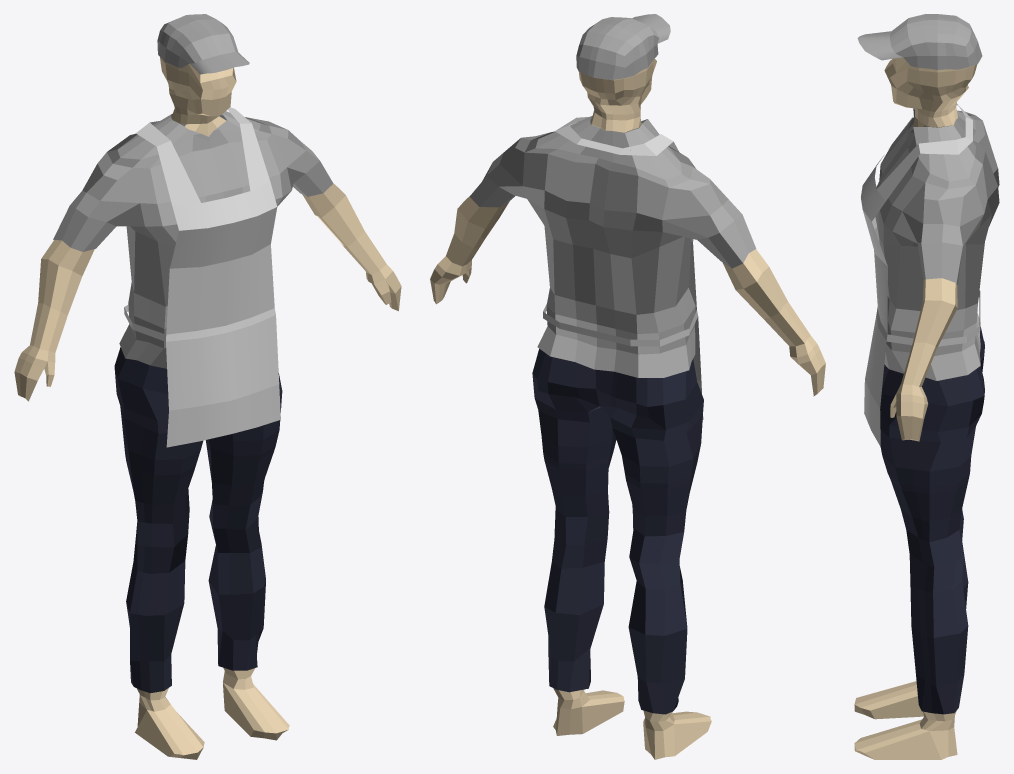
The model's file is Character_M.fbx.
3 views of the same model, side by side, from view 1: azimuth 30°, elevation 25°; view 2: azimuth 150°, elevation 25°; view 3: azimuth 270°, elevation 25° (orthographic). The views are drawn at different scales.
Visible parts, largest first — view 1: Male_Optimised; view 2: Male_Optimised; view 3: Male_Optimised.
Part boxes in pixels (x1=…): Male_Optimised: x1=14, y1=14, x2=401, y2=759; Male_Optimised: x1=430, y1=14, x2=825, y2=759; Male_Optimised: x1=854, y1=14, x2=999, y2=759.
Size of the model in its own units: 88.86 by 157 by 29.05.
